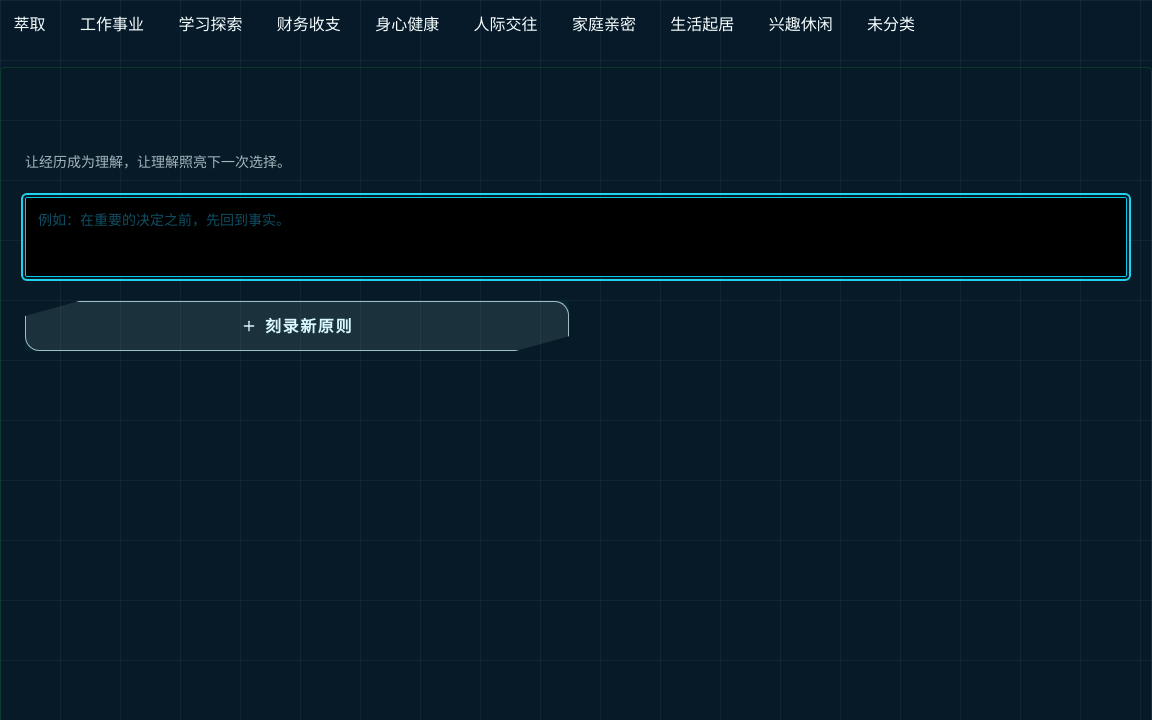
Test: ArchivePrinciplesView › renders a structured principle as a when-do pair
The width and height of the screenshot is (1152, 720).
Click the button "未分类": (891, 24) [854,2,929,46]
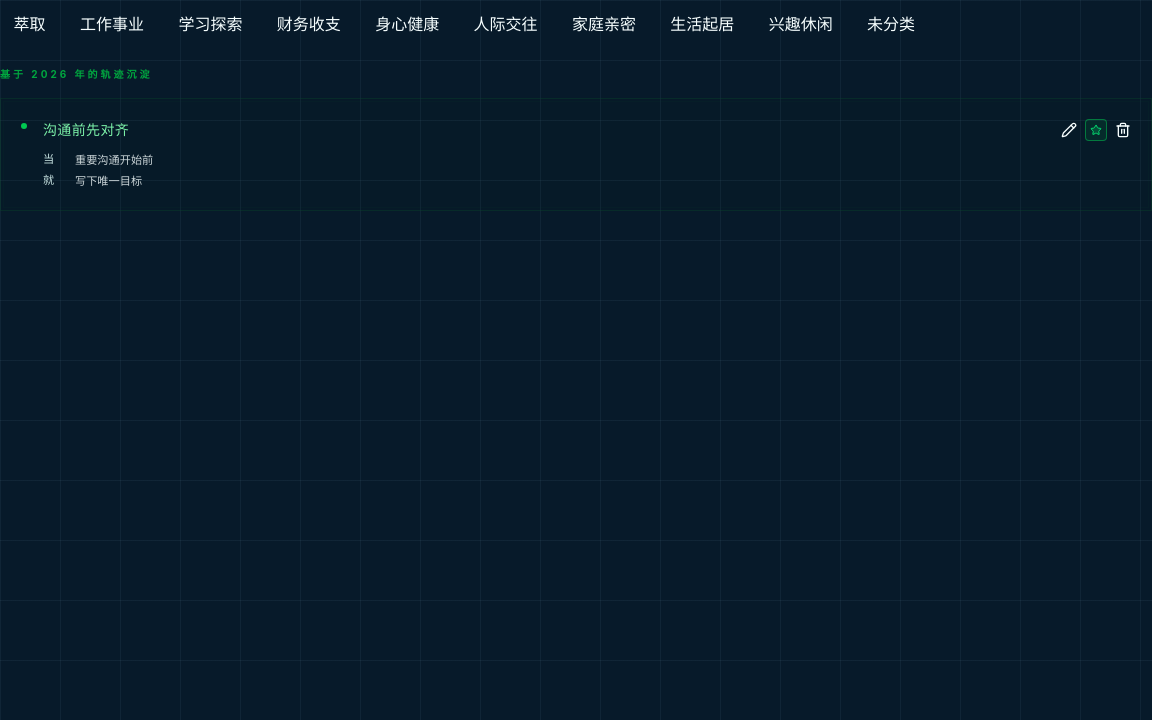
expect the text "重要沟通开始前" is shown: met, box [75,152,153,168]
expect the text "写下唯一目标" is shown: met, box [75,173,153,190]
